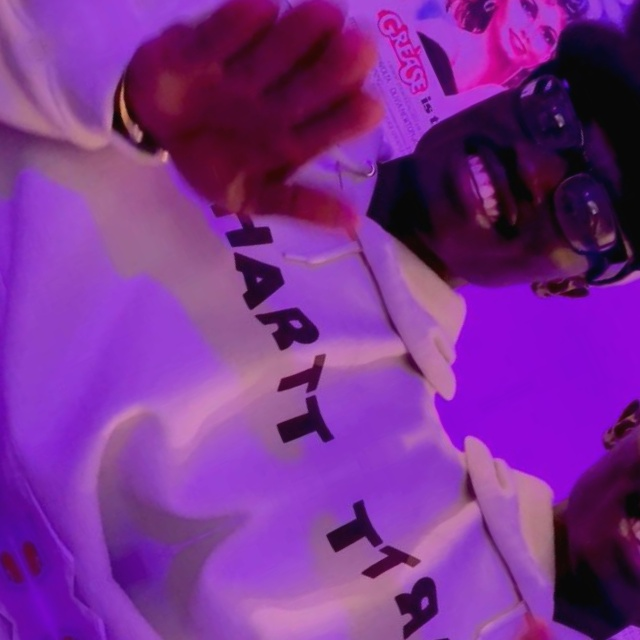Paper: (103, 0, 447, 295)
